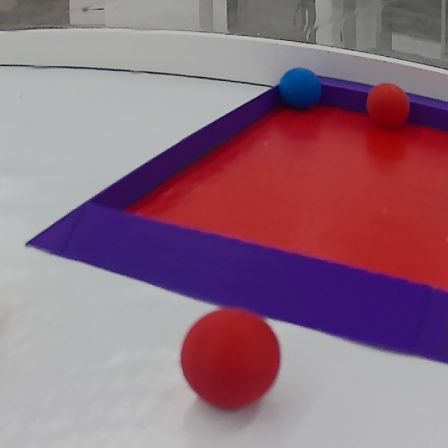blue: (276, 67, 326, 111)
red: (176, 305, 286, 411), (360, 82, 414, 129)
red_aim: (22, 63, 448, 369)
